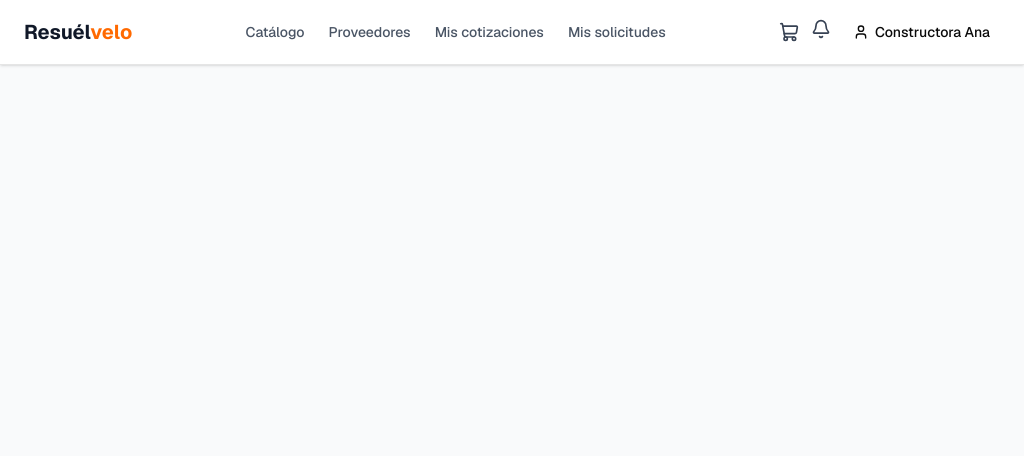
Test: NavbarClient — menú de cuenta y navegación › el menú del comprador muestra sus opciones en el orden definido y la identidad de la cuenta
What coordinates should you click on to do the following:
click the button "Constructora Ana"
I would click on:
 (921, 32)
Its box is [843,16,1000,48].
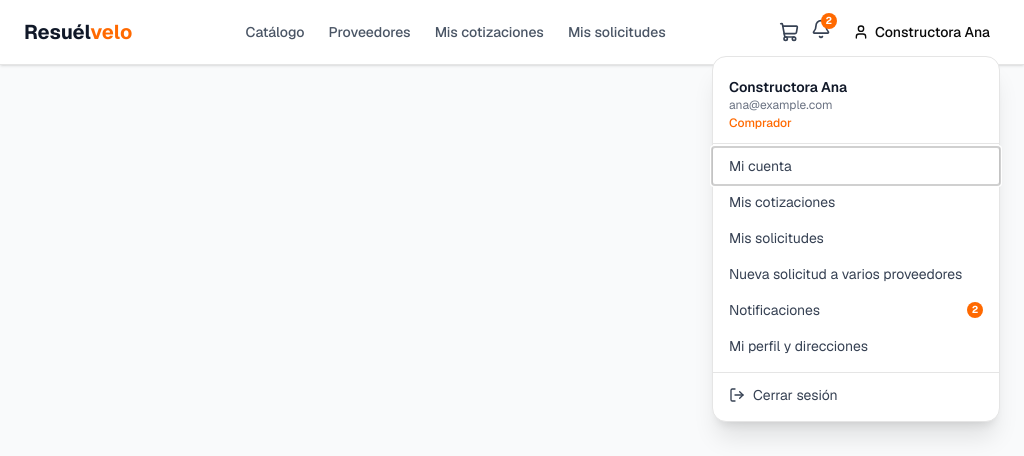
Expected: the text "Constructora Ana" is shown, [729,78,847,96]
Expected: the text "ana@example.com" is shown, [729,97,832,113]
Expected: the text "Comprador" is shown, [729,115,792,131]
